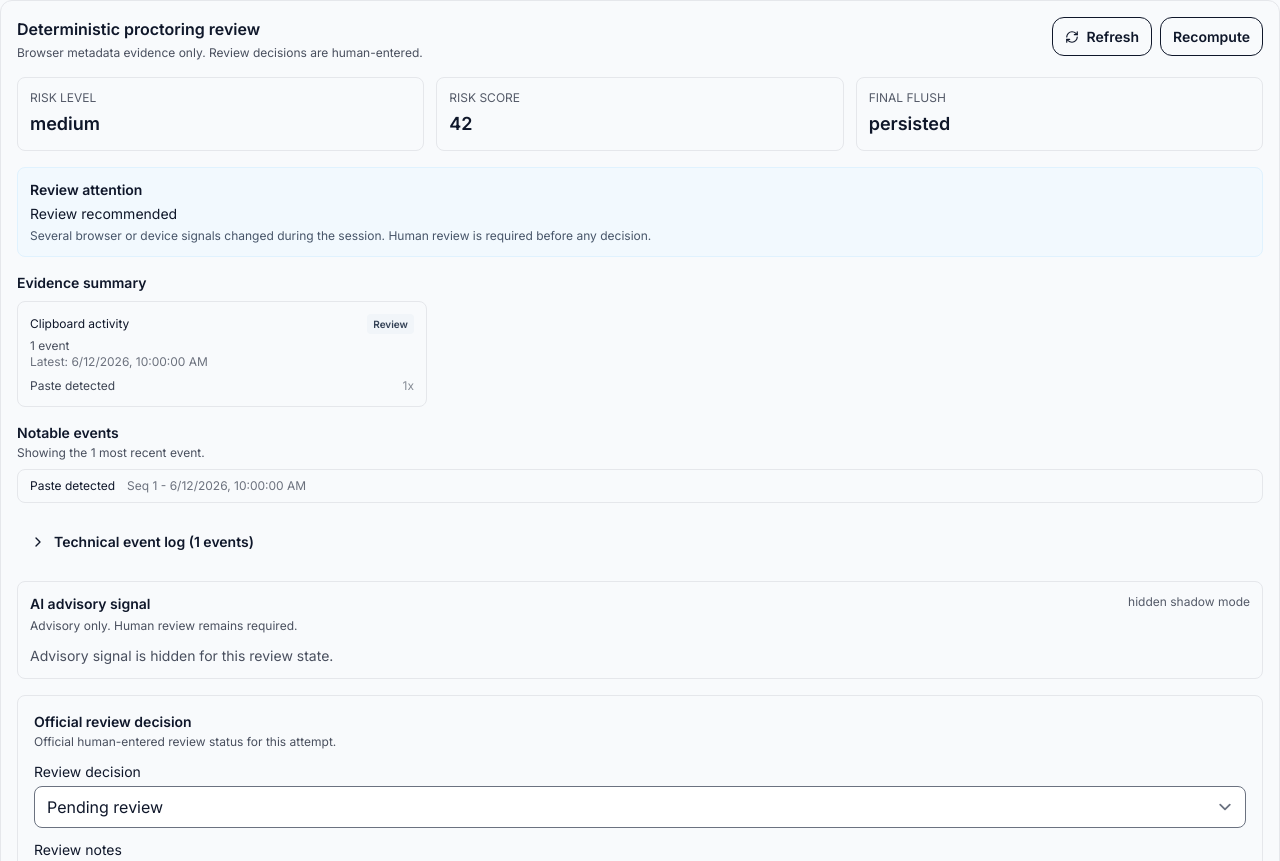
ProctoringReviewPanel › summary is shown before technical event log and raw JSON is revealed only when expanded
Check: the text "Evidence summary" is shown, box [17,274,146,291]
Check: the text "textLength" is not shown
# Click to expand
Click the button "Technical event log (1 events)".
click(124, 542)  # box [17,519,1263,565]
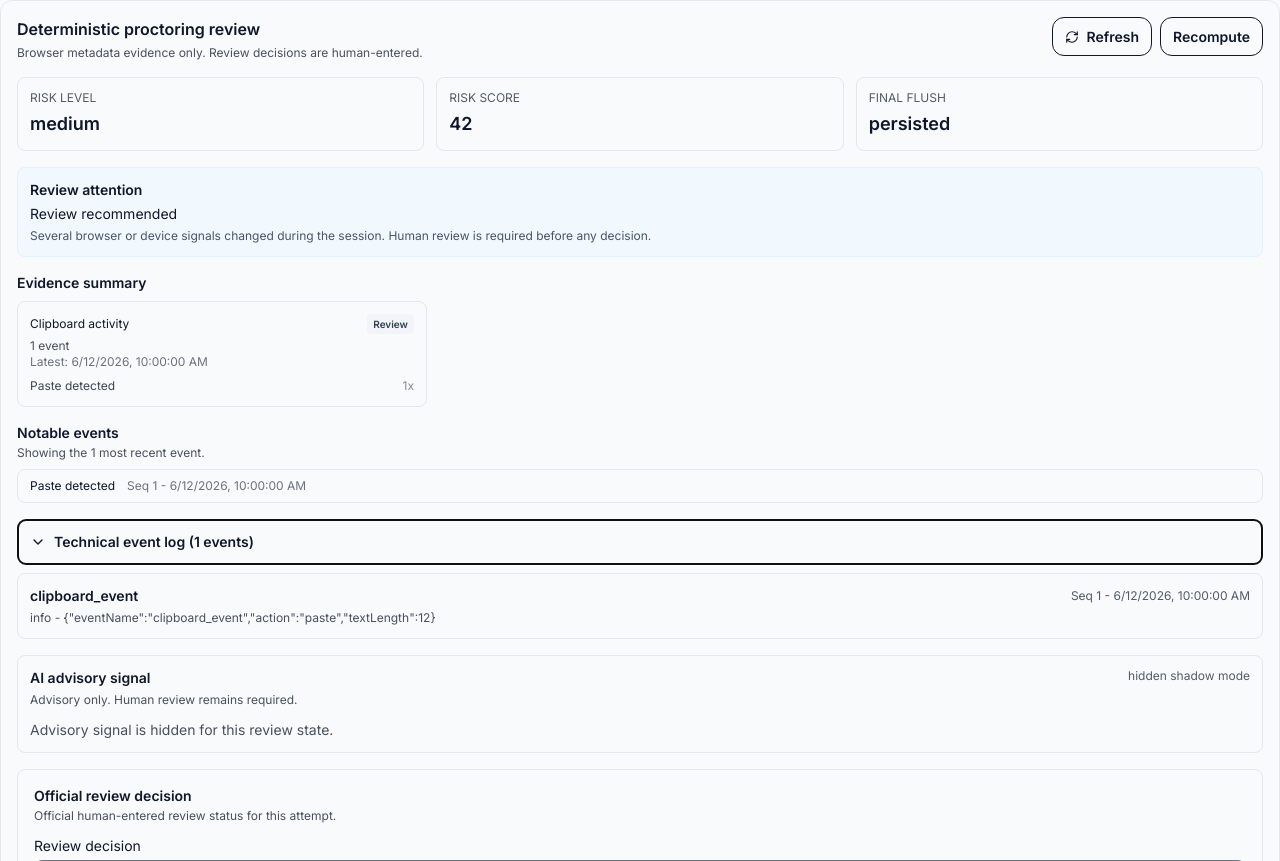
Check: the text "{\"eventName\":\"clipboard_event\",\"action\":\"paste\",\"textLength\":12}" is shown, box [64,610,436,625]
